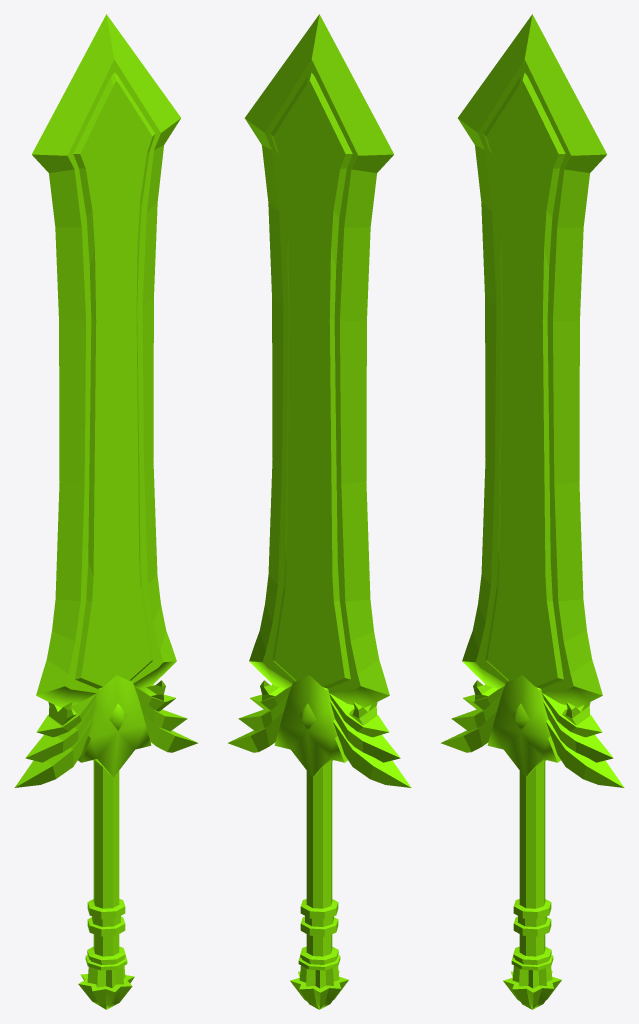
File: greatsword.glb
3 views of the same model, side by side, from view 1: azimuth 30°, elevation 25°; view 2: azimuth 150°, elevation 25°; view 3: azimuth 330°, elevation 25° (orthographic).
Visible parts, largest first — view 1: Grruzam_Big_Sword; view 2: Grruzam_Big_Sword; view 3: Grruzam_Big_Sword.
Part boxes in pixels (box(x1,y1,x2,y2)): Grruzam_Big_Sword: box(14, 14, 197, 1009); Grruzam_Big_Sword: box(228, 14, 411, 1009); Grruzam_Big_Sword: box(441, 14, 624, 1009).
Size of the model in its own units: 0.3855 by 1.99 by 0.1212.
